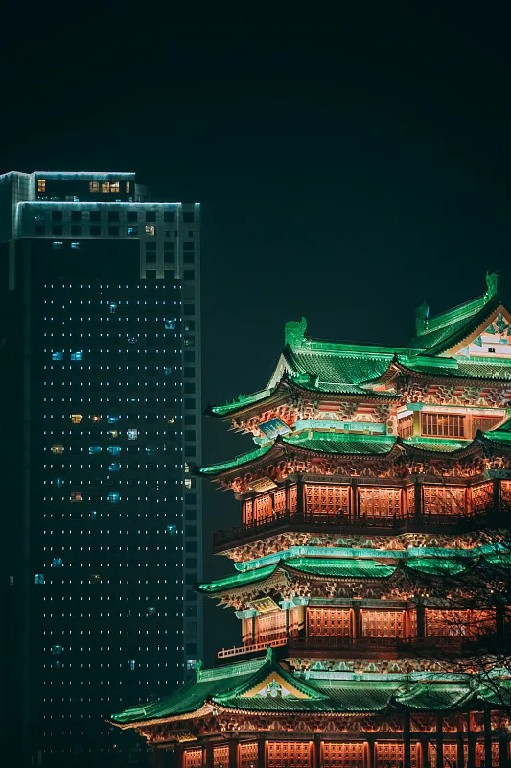Teng: (102, 271, 511, 768)
